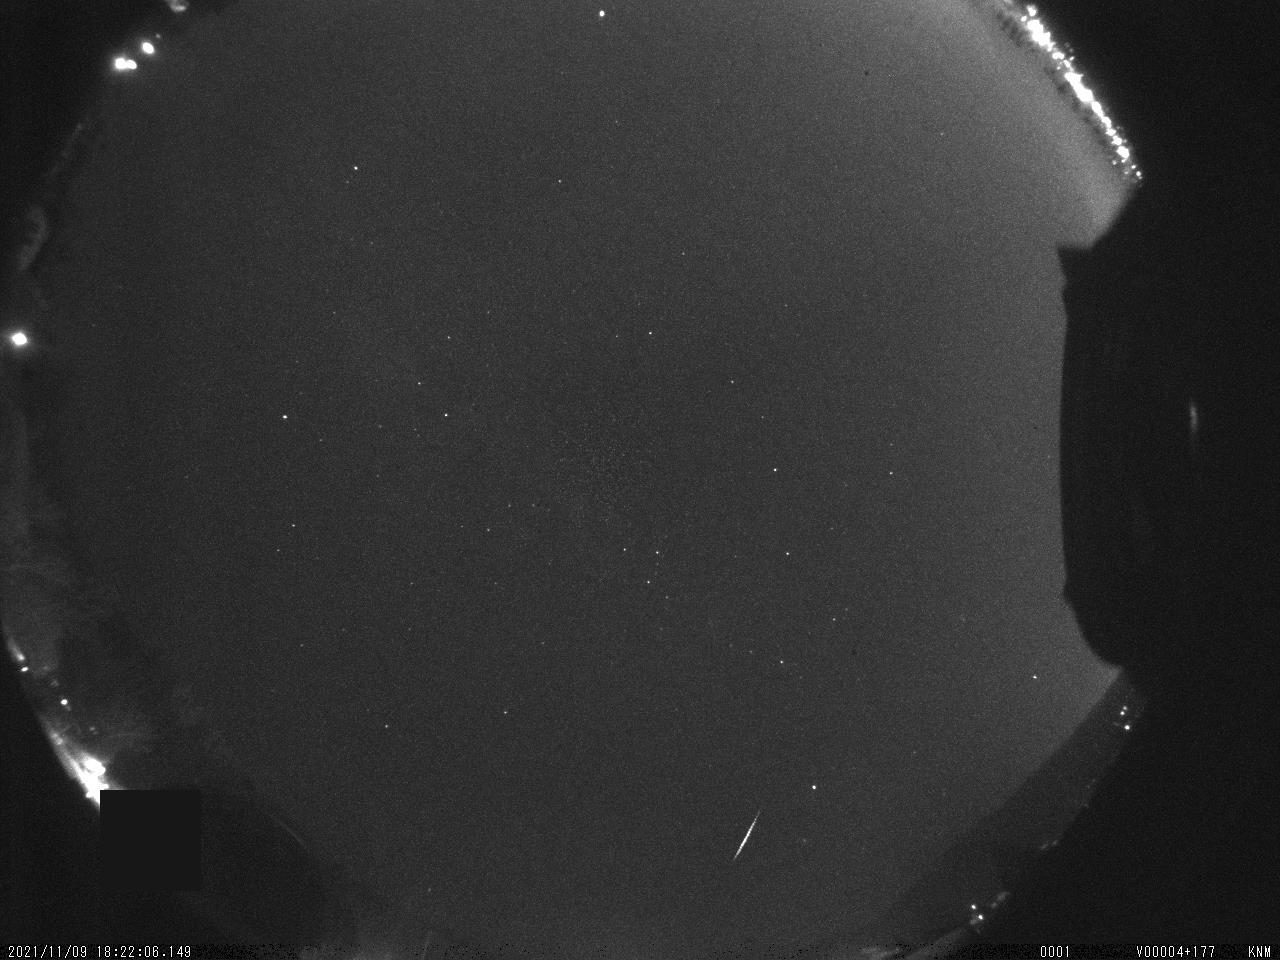meteor: (721, 791, 771, 882)
